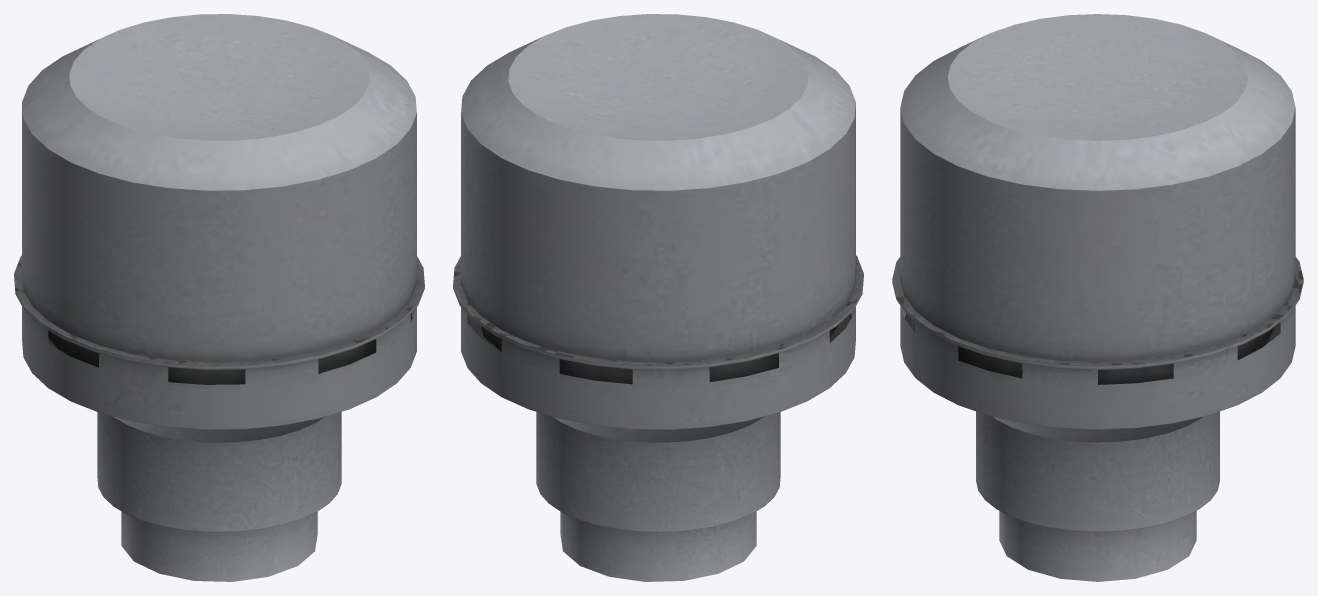
3 views of the same model, side by side, from view 1: azimuth 30°, elevation 25°; view 2: azimuth 150°, elevation 25°; view 3: azimuth 270°, elevation 25° (orthographic).
Parts seen in each view (by area): view 1: body0_model0_lod0_mesh0; view 2: body0_model0_lod0_mesh0; view 3: body0_model0_lod0_mesh0.
Part boxes in pixels (x1,y1,x2,y2): body0_model0_lod0_mesh0: (14,14,424,581); body0_model0_lod0_mesh0: (453,14,863,581); body0_model0_lod0_mesh0: (892,14,1303,581).
Size of the model in its own units: 99.89 by 124 by 99.89.
1 material, 1 textured.
